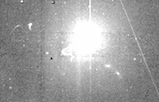Halpha: (7, 14, 71, 67), (63, 55, 138, 88)
